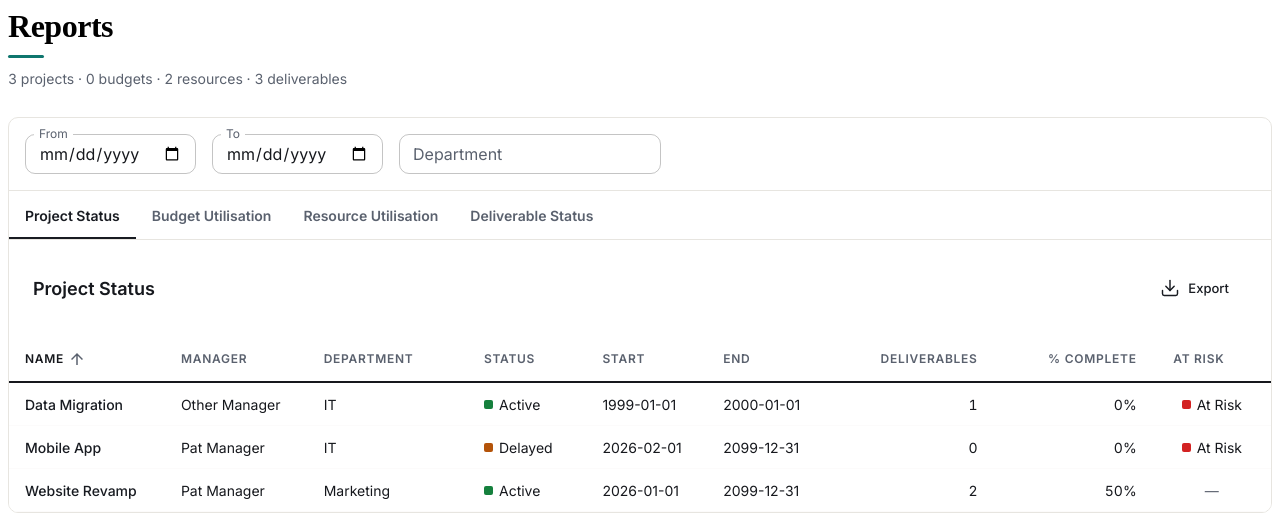
Reports page › budget utilisation report › shows an empty state when no budgets exist
This screenshot has width=1280, height=530.
Expected: the link "Website Revamp" is shown, top-left (25, 482), bottom-right (137, 499)
Click the tab "Budget Utilisation" at (212, 215), box top-left (136, 191), bottom-right (287, 239)
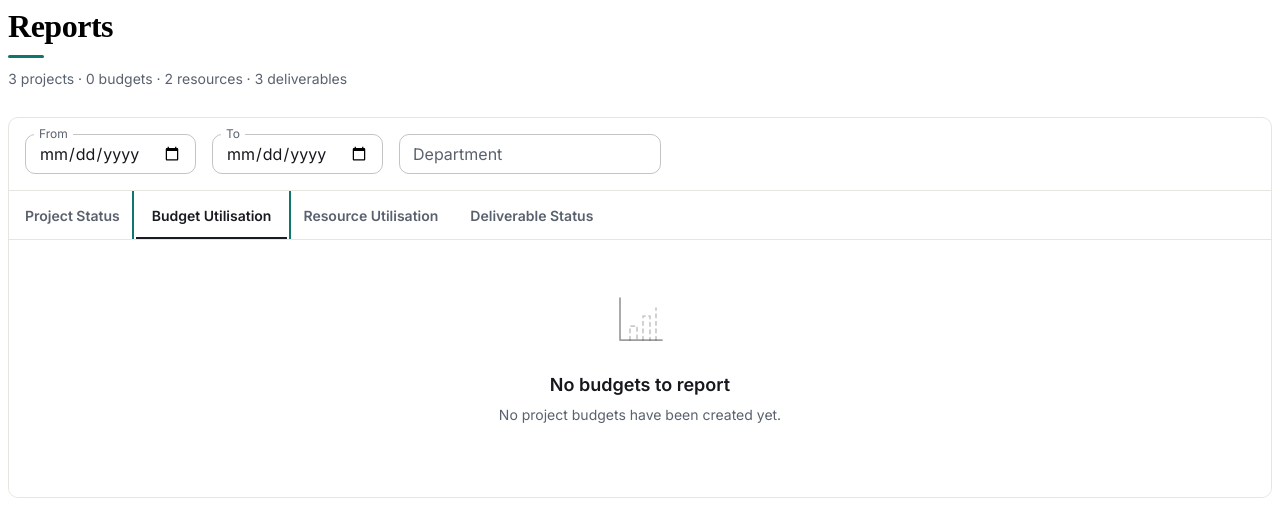
Expected: the heading "No budgets to report" is shown, top-left (550, 374), bottom-right (730, 395)
